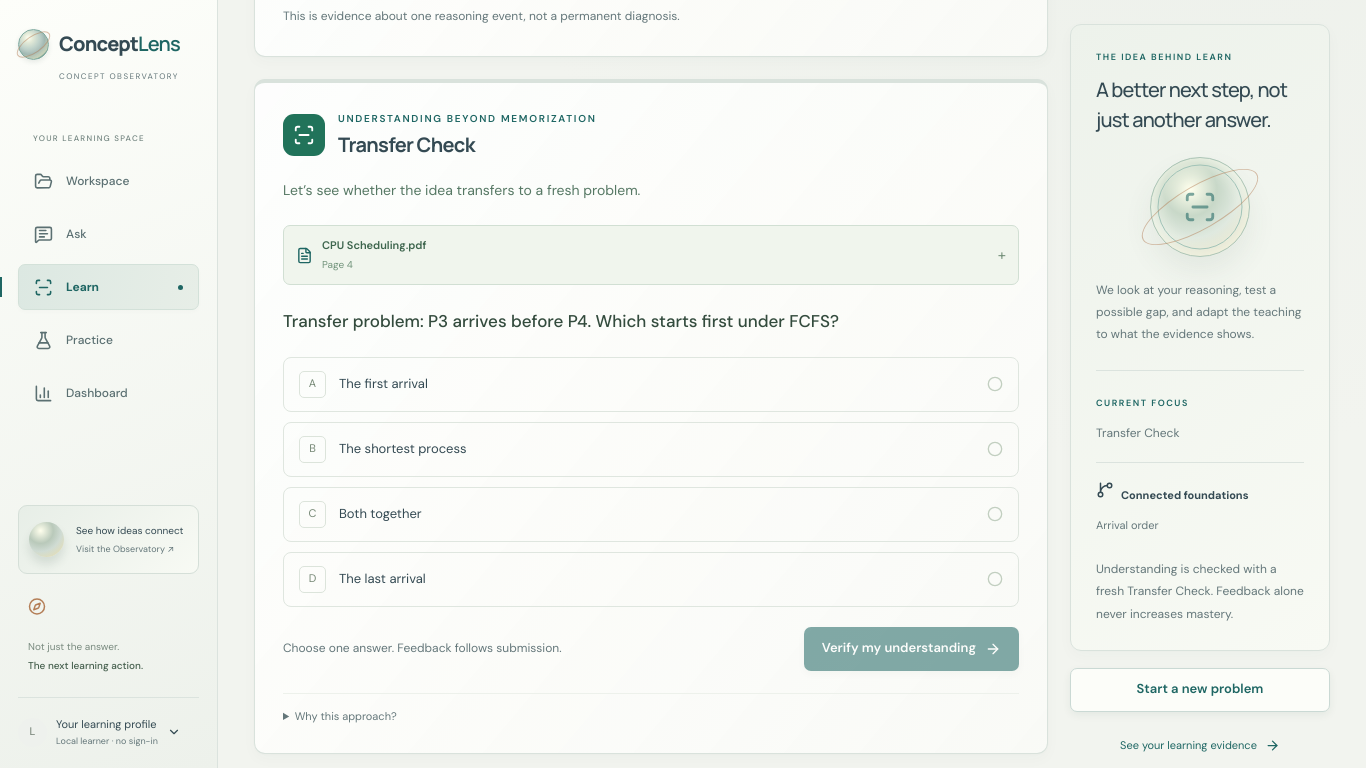
Test case: application contracts › recovers a stale transfer-check/attempts by GETting the server session
(page scrolled)
Click the radio button labelled "A The first arrival". click: (383, 383)
box: [283, 357, 1019, 412]
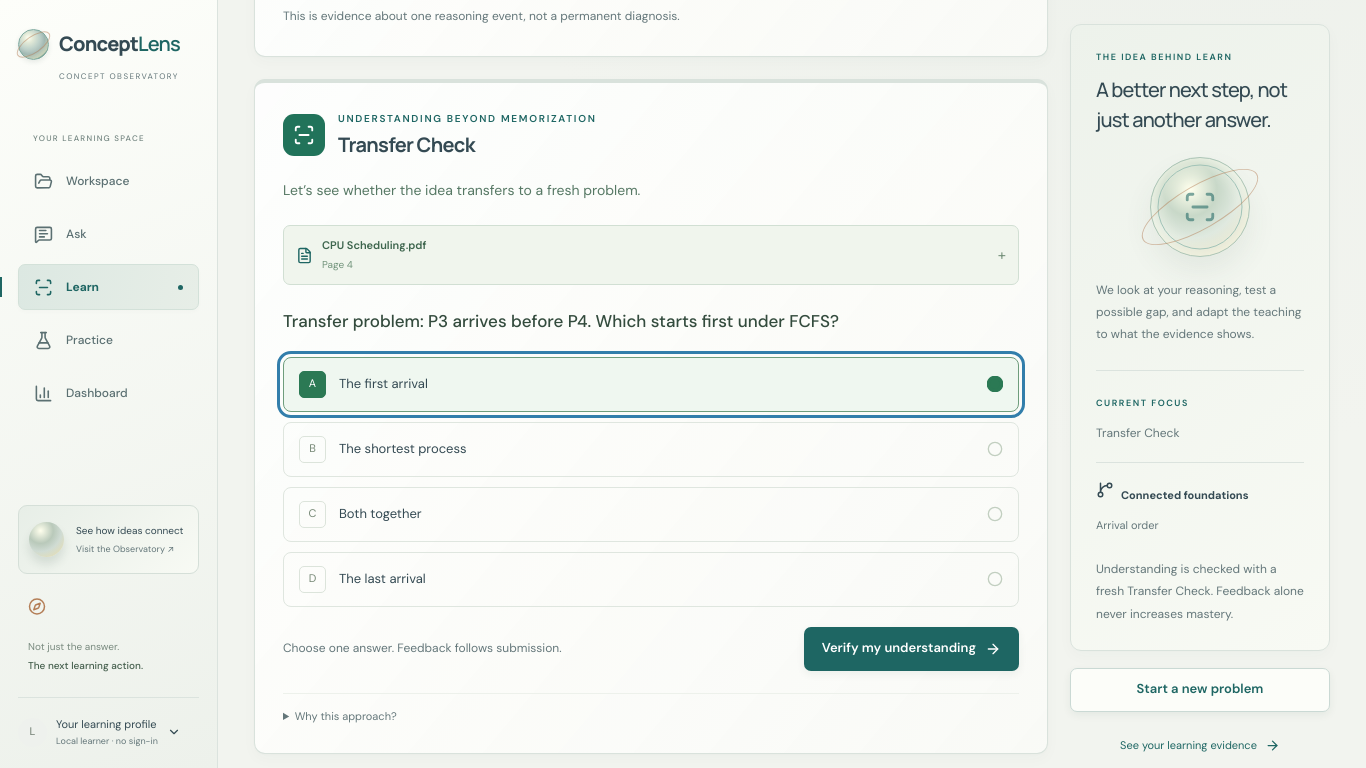
Click the button "Verify my understanding". click: (911, 649)
box: [804, 627, 1019, 671]
(page scrolled)
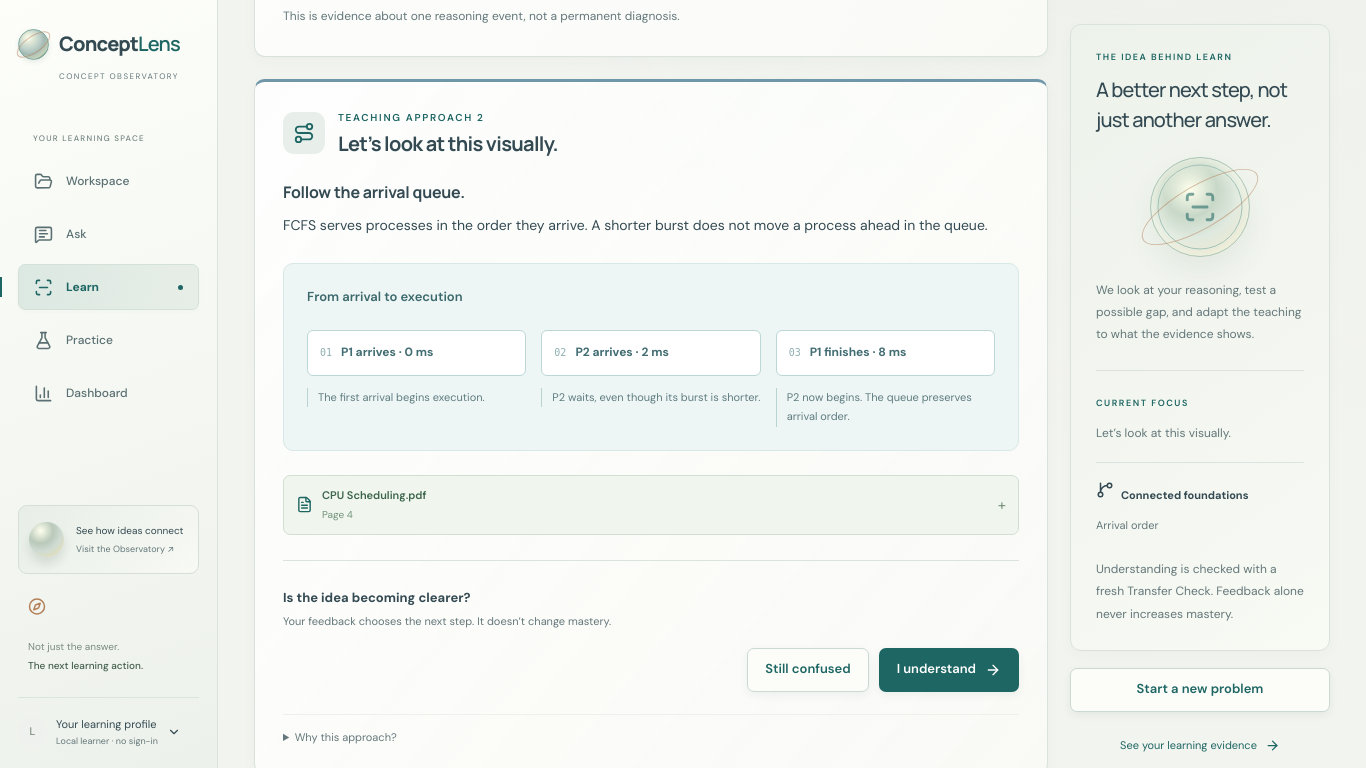
Expected: the heading "Let’s look at this visually." is shown, [338, 131, 558, 157]
Expected: the text "P2 arrives · 2 ms" is shown, [575, 343, 669, 362]
